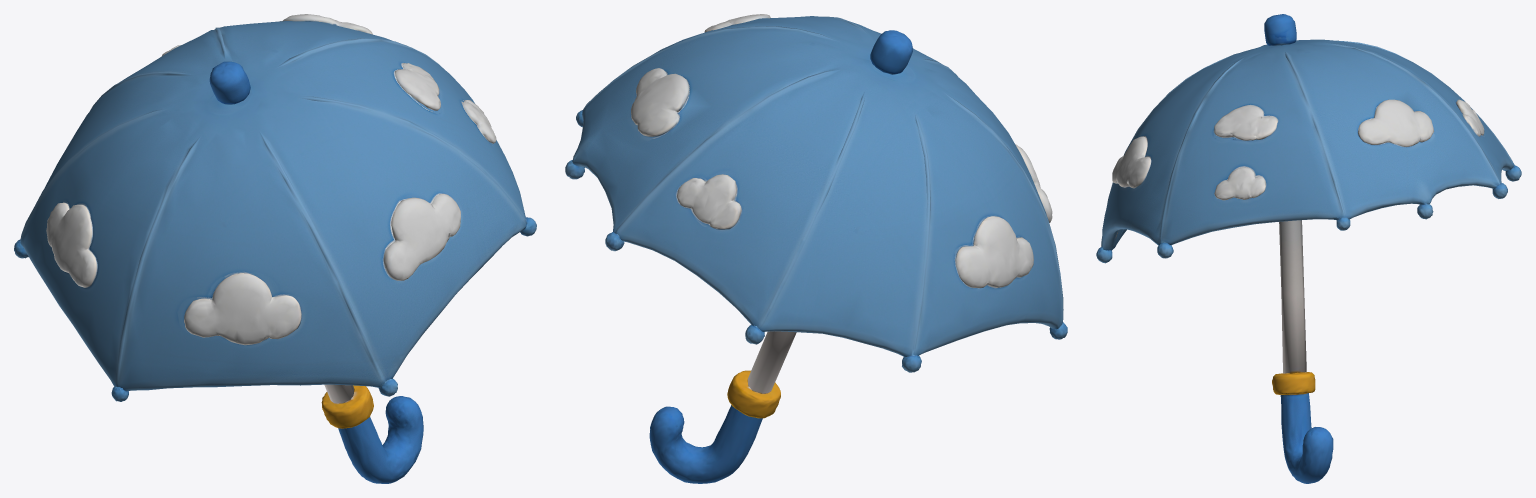
The model's file is mem_ac_umbrella.fbx.
3 renders of one model, left to right at view 1: azimuth 30°, elevation 25°; view 2: azimuth 150°, elevation 25°; view 3: azimuth 270°, elevation 25°, orthographic. The views are drawn at different scales.
Parts seen in each view (by area): view 1: tripo_node_b39ee32b; view 2: tripo_node_b39ee32b; view 3: tripo_node_b39ee32b.
Part boxes in pixels (x1,y1,x2,y2): tripo_node_b39ee32b: [14, 14, 536, 483]; tripo_node_b39ee32b: [565, 14, 1067, 483]; tripo_node_b39ee32b: [1096, 14, 1521, 483].
Size of the model in its own units: 0.9238 by 0.998 by 0.9785.
